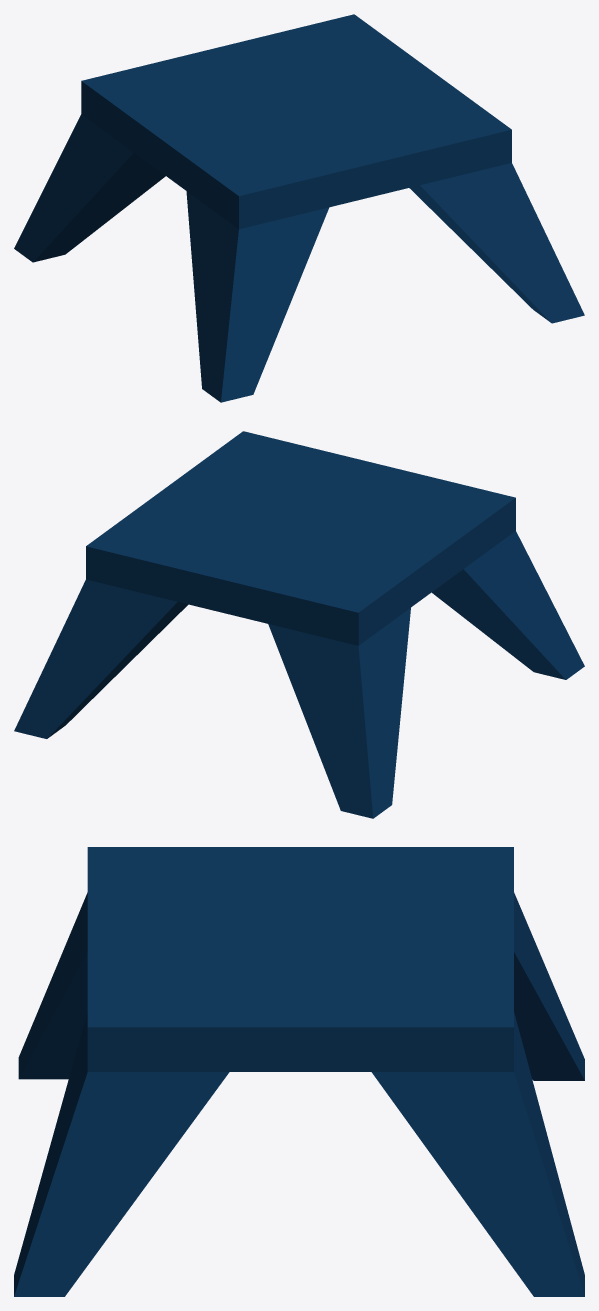
File: Table_Blue.glb
The picture shows the model from 3 angles, top to bottom: view 1: azimuth 30°, elevation 25°; view 2: azimuth 150°, elevation 25°; view 3: azimuth 270°, elevation 25°; orthographic projection. The views are drawn at different scales.
Parts seen in each view (by area): view 1: Table; view 2: Table; view 3: Table.
Boxes of the visible parts, x1=… form: Table: x1=14, y1=14, x2=584, y2=402; Table: x1=14, y1=431, x2=584, y2=818; Table: x1=14, y1=847, x2=584, y2=1296.
Size of the model in its own units: 7.88 by 3.68 by 7.95.
